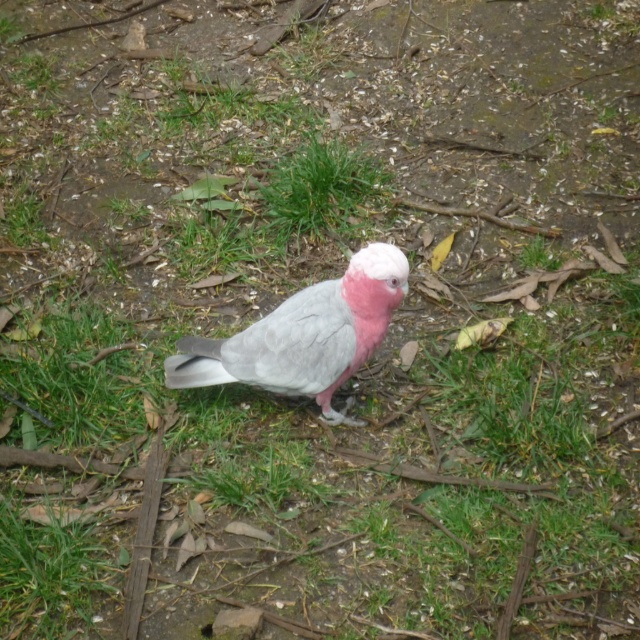Parrot: (165, 240, 410, 427)
